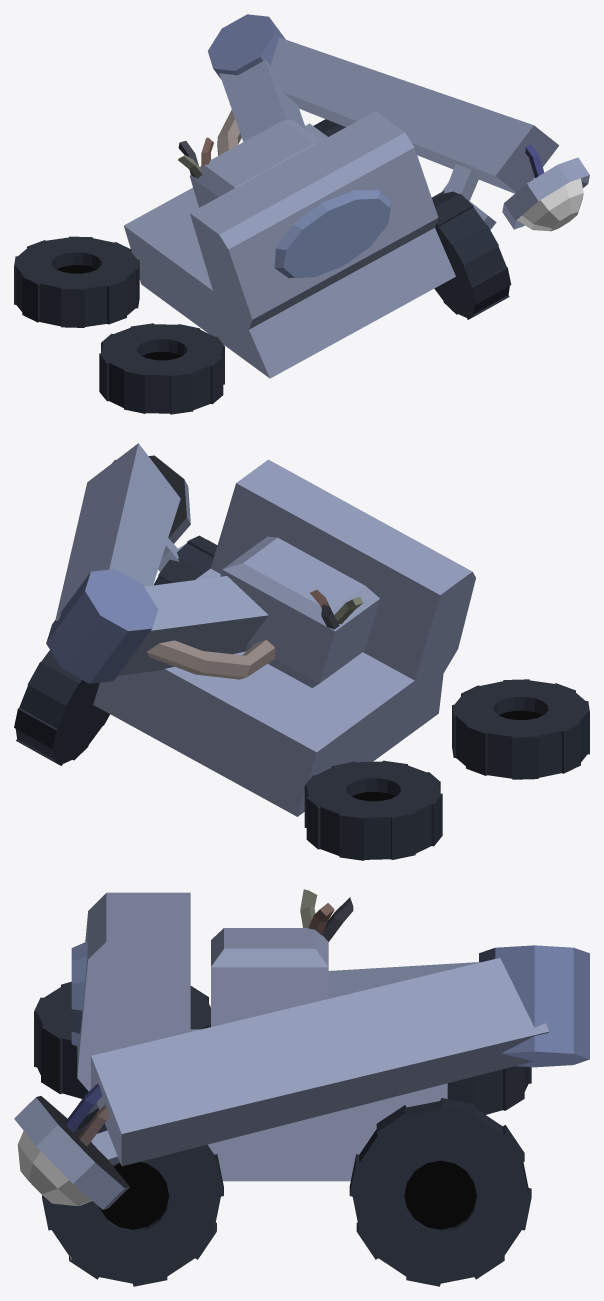
File: dron_roto.fbx
The picture shows the model from 3 angles, top to bottom: view 1: azimuth 30°, elevation 25°; view 2: azimuth 150°, elevation 25°; view 3: azimuth 270°, elevation 25°; orthographic projection. The views are drawn at different scales.
Parts seen in each view (by area): view 1: BrazoUnion.002; view 2: BrazoUnion.002; view 3: BrazoUnion.002.
Boxes of the visible parts, x1,y1,x2,y2 form: BrazoUnion.002: (14,14,589,414); BrazoUnion.002: (14,443,589,860); BrazoUnion.002: (14,889,589,1286).
Bounding box in the file's own units: 478 × 205 × 358.
Materials: 1 (1 with a texture image).
